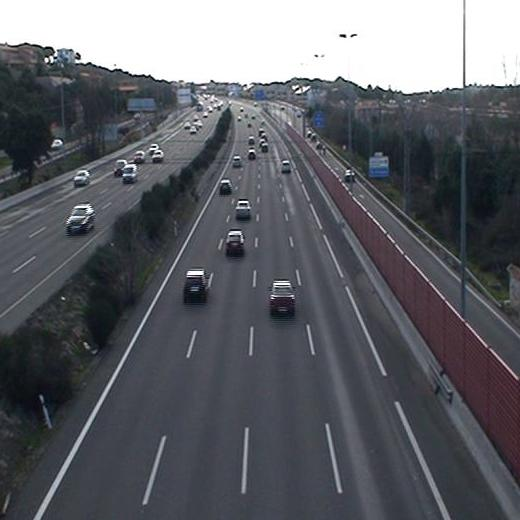car: (180, 266, 212, 306), (265, 278, 298, 316), (222, 229, 247, 258), (233, 198, 255, 220), (218, 177, 235, 196), (278, 158, 294, 176), (230, 155, 244, 168)
